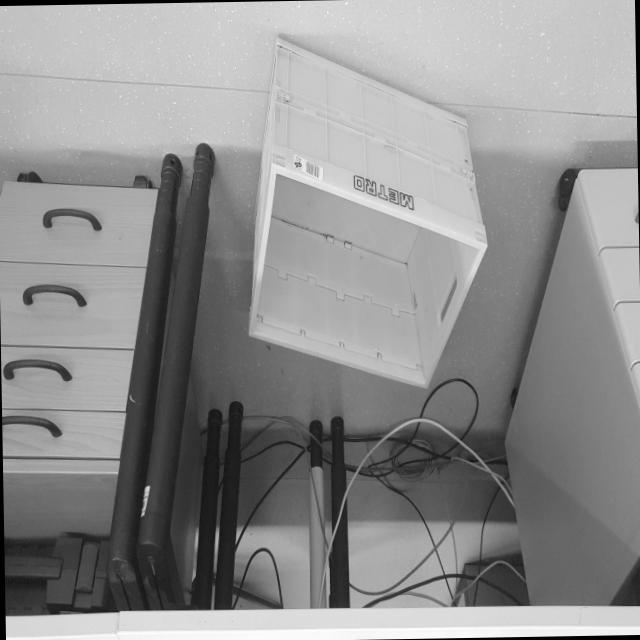box: (238, 29, 500, 404)
